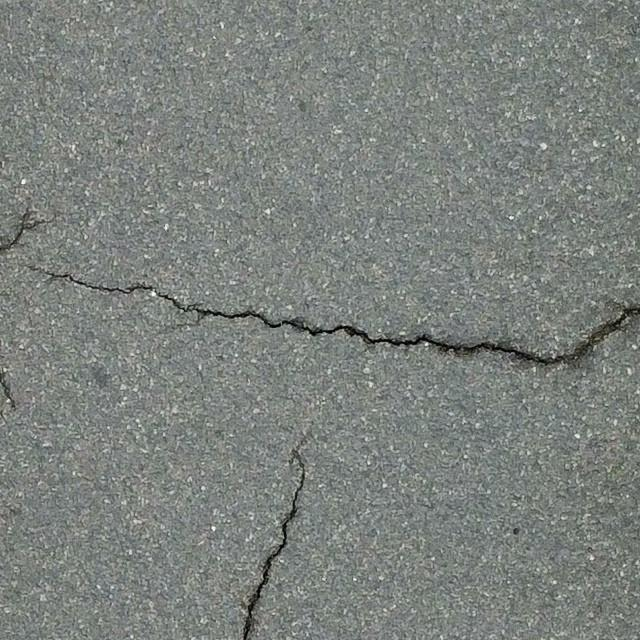LongitudinalCrack: (244, 449, 307, 640)
TransverseCrack: (36, 265, 640, 367)
